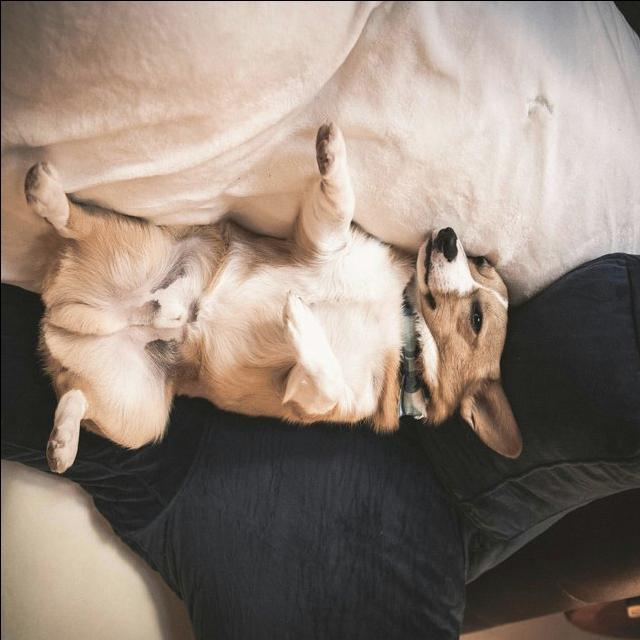corgi: (24, 121, 524, 472)
